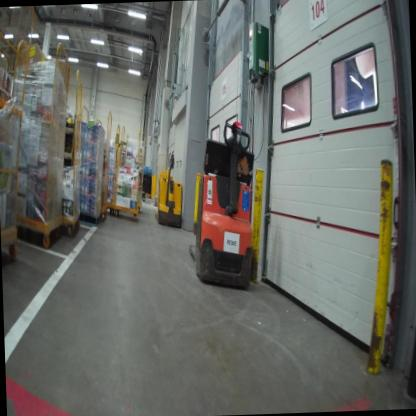pallet_truck: (177, 116, 261, 292), (153, 150, 187, 231)
